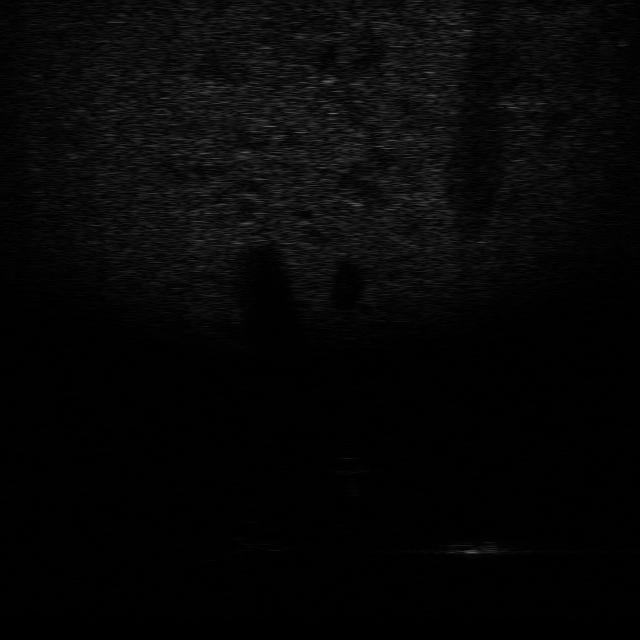ball: (326, 450, 372, 479)
metal bucket: (440, 533, 505, 560)
tyre: (229, 518, 285, 550)
